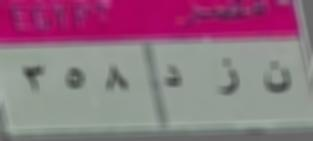3: (15, 57, 48, 101)
5: (62, 65, 87, 97)
8: (103, 60, 130, 102)
daal: (162, 60, 185, 99)
noon: (260, 55, 297, 103)
zay: (214, 55, 245, 110)
